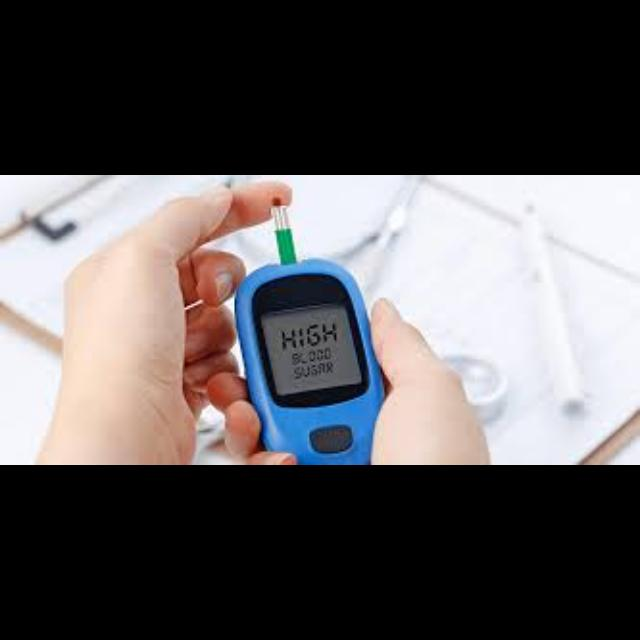Glucose-Meter: (235, 208, 385, 464)
